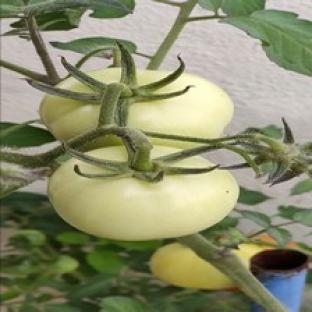Tomato: (49, 159, 239, 240), (129, 73, 233, 137), (150, 243, 235, 289)
